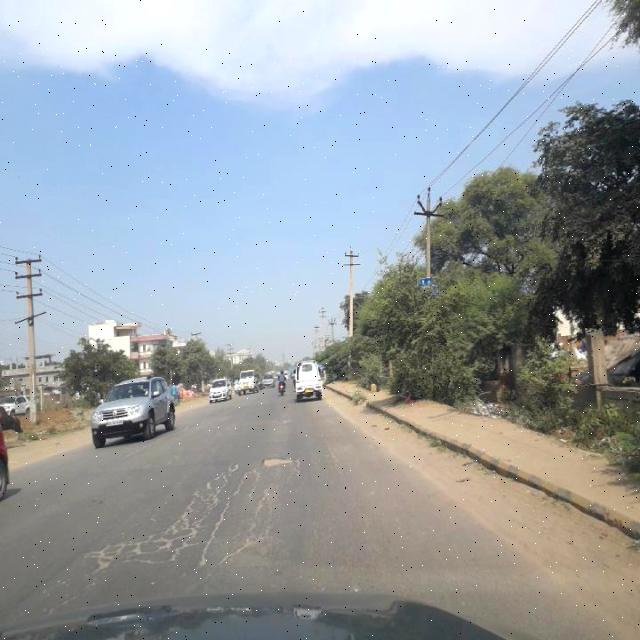D20: (86, 457, 274, 571)
D40: (255, 449, 299, 471)
